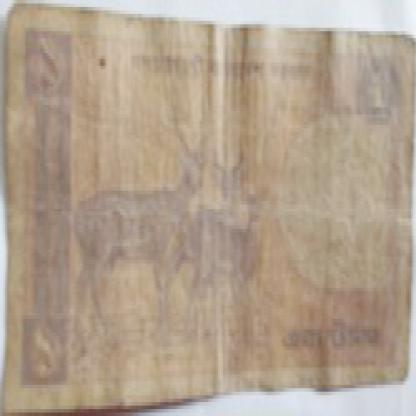One Taka: (283, 319, 383, 360), (32, 28, 72, 97), (25, 319, 62, 385)
